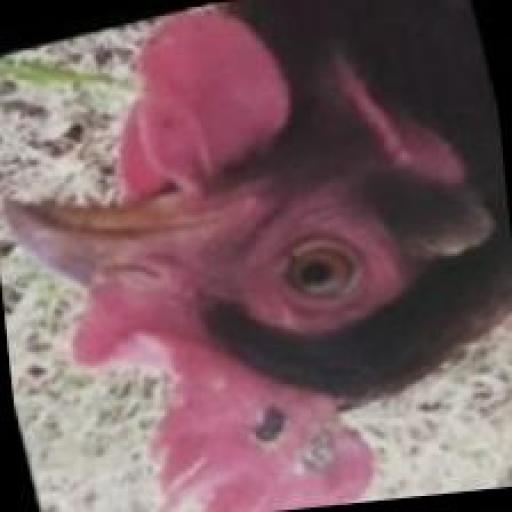disease: (194, 338, 357, 500)
